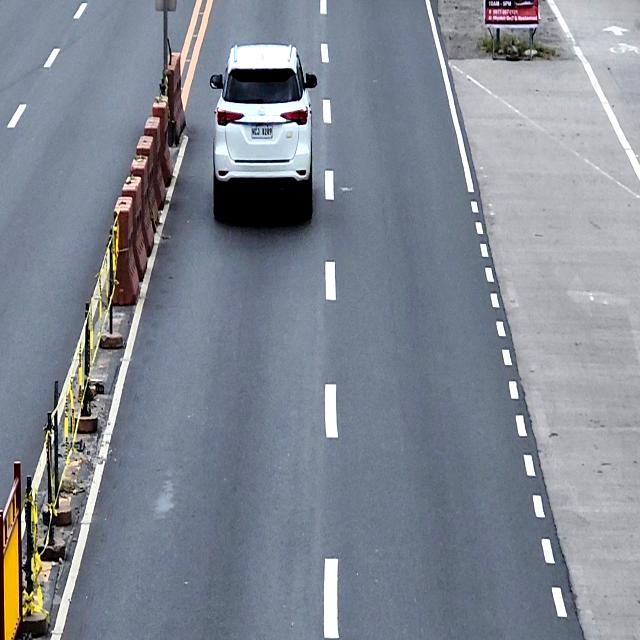Car: (209, 41, 317, 220)
License-Plate: (250, 122, 273, 140)
